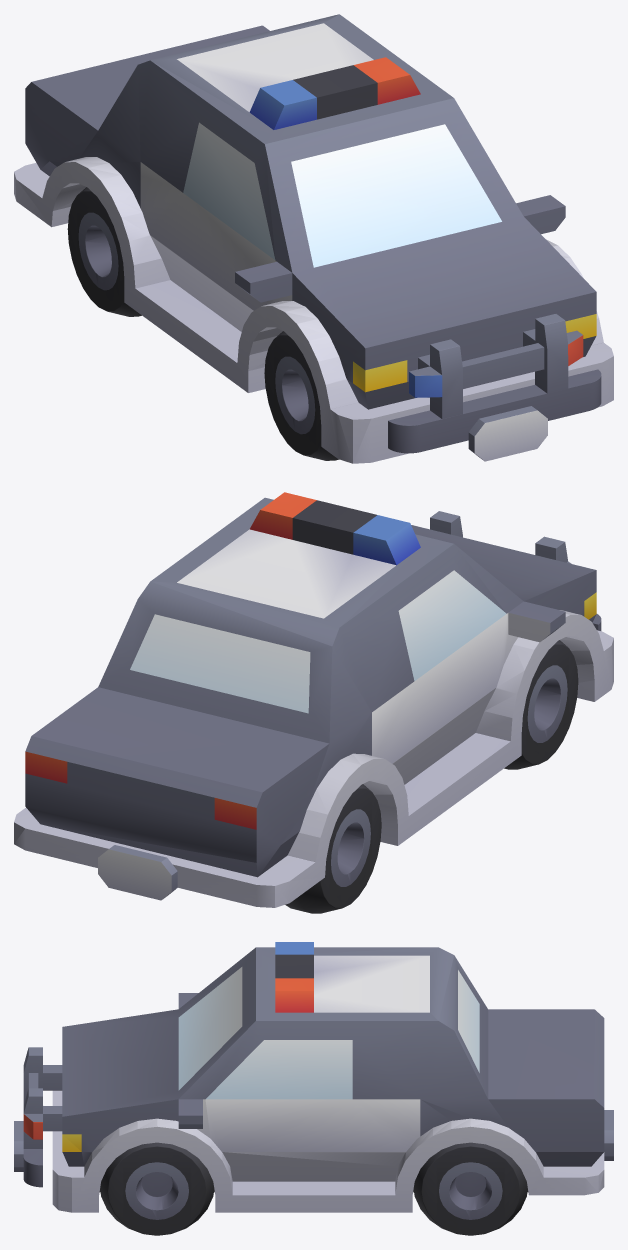
File: police.glb
3 views of the same model, one above another, from view 1: azimuth 30°, elevation 25°; view 2: azimuth 150°, elevation 25°; view 3: azimuth 270°, elevation 25° (orthographic). The views are drawn at different scales.
Visible parts, largest first — view 1: body, grill, wheel-front-right, wheel-back-right; view 2: body, wheel-back-right, wheel-front-right, grill; view 3: body, wheel-back-left, wheel-front-left, grill.
Boxes of the visible parts, bbox=[...] form: body: bbox=[14, 14, 613, 463]; grill: bbox=[388, 313, 601, 461]; wheel-front-right: bbox=[264, 331, 339, 460]; wheel-back-right: bbox=[67, 187, 141, 316]; body: bbox=[14, 492, 613, 907]; wheel-back-right: bbox=[285, 784, 381, 913]; wheel-front-right: bbox=[504, 640, 578, 769]; grill: bbox=[430, 511, 601, 630]; body: bbox=[52, 942, 613, 1212]; wheel-back-left: bbox=[413, 1142, 527, 1235]; wheel-front-left: bbox=[100, 1142, 214, 1235]; grill: bbox=[14, 1047, 62, 1187].
Bounding box in the file's own units: 1.5 × 1.3 × 3.1.
Materials: 6 (6 with a texture image).
